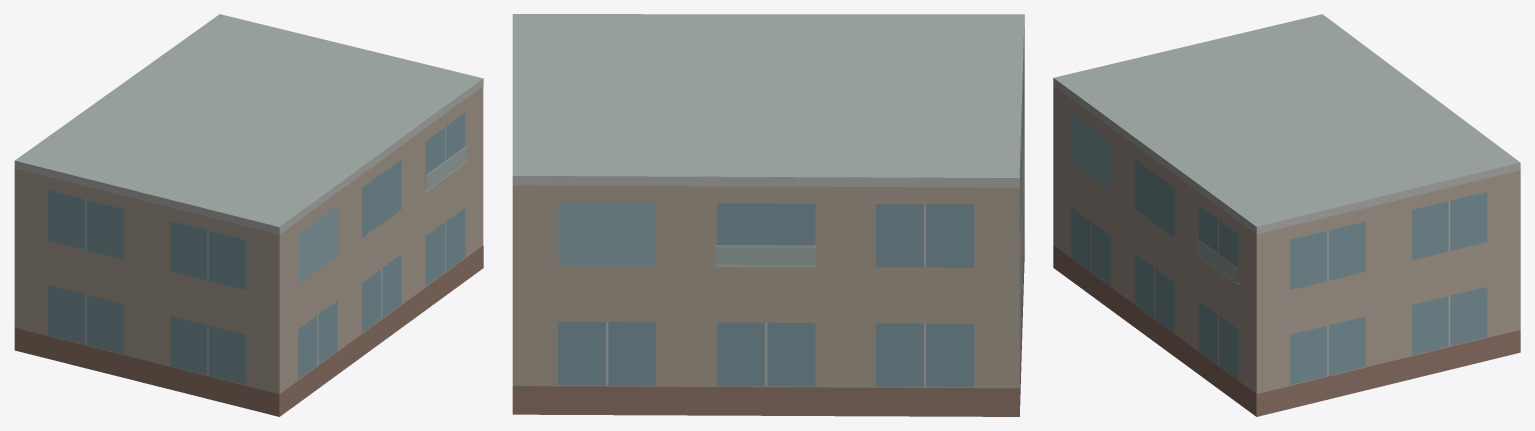
File: survey-upis-32924158.glb
3 renders of one model, left to right at view 1: azimuth 30°, elevation 25°; view 2: azimuth 150°, elevation 25°; view 3: azimuth 270°, elevation 25°, orthographic. The views are drawn at different scales.
Visible parts, largest first — view 1: survey-upis-32924158.tmp; view 2: survey-upis-32924158.tmp; view 3: survey-upis-32924158.tmp.
Part boxes in pixels (x1,y1,x2,y2): survey-upis-32924158.tmp: [14, 14, 483, 416]; survey-upis-32924158.tmp: [512, 14, 1024, 416]; survey-upis-32924158.tmp: [1053, 14, 1520, 416].
Bounding box in the file's own units: 14.67 × 6.1 × 13.61.
